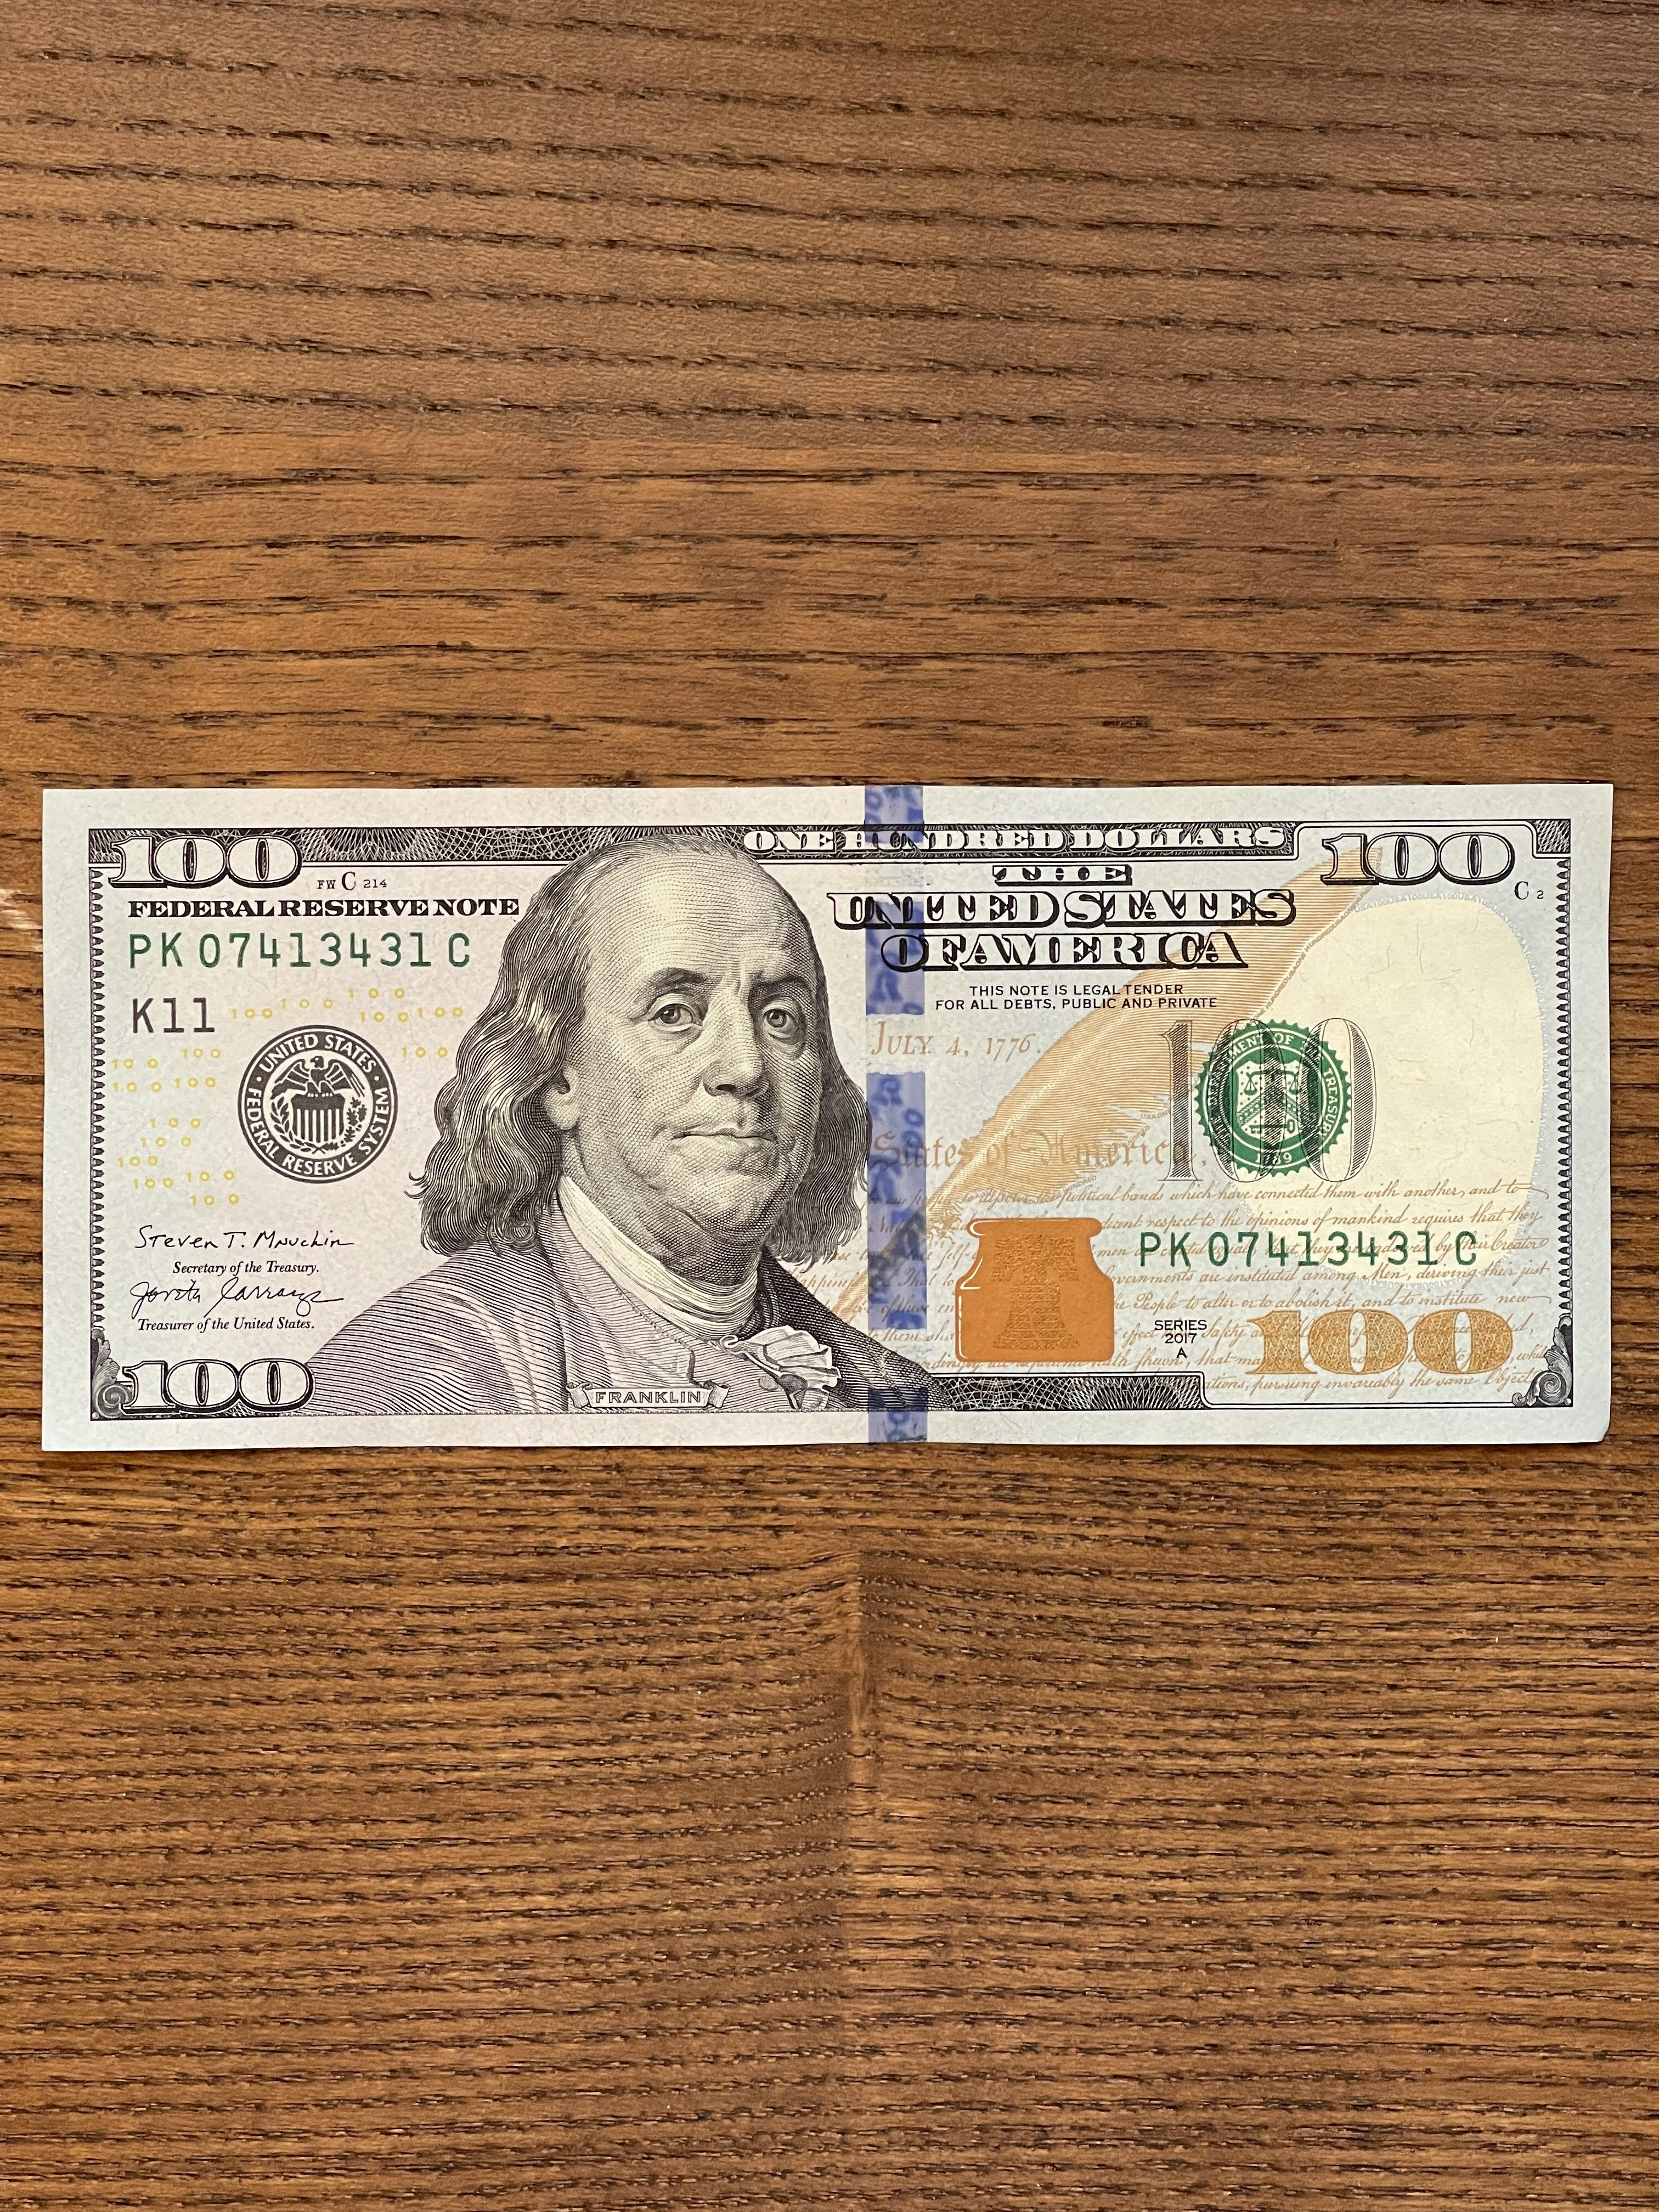HundredBill: (35, 775, 1622, 1456)
